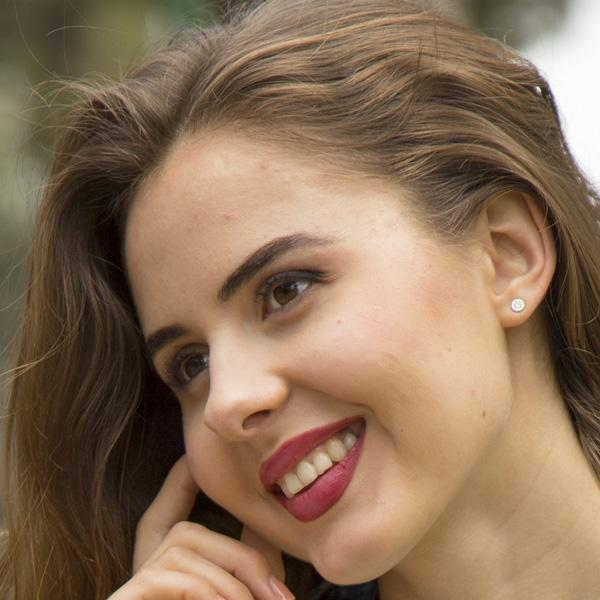Eyes: (251, 262, 330, 326), (165, 335, 215, 401)
